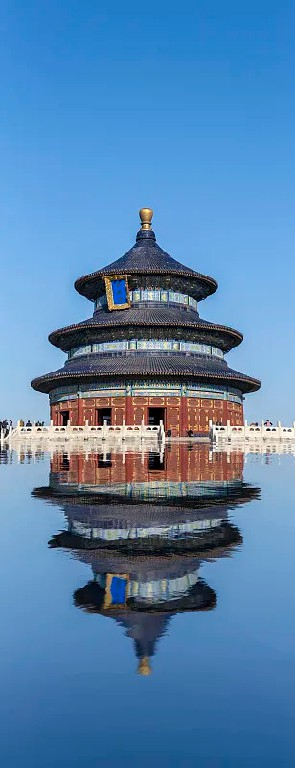Heaven: (31, 209, 261, 435)
